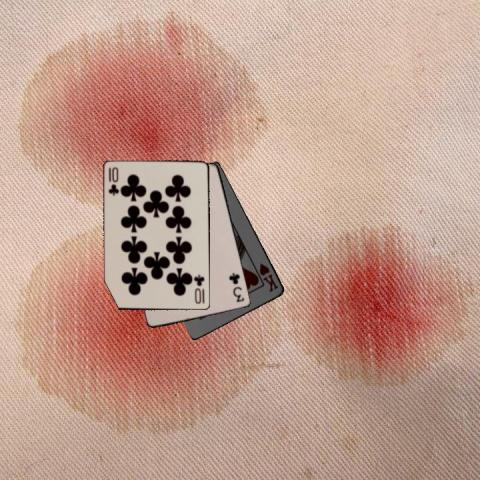10c: (191, 272, 206, 305), (106, 165, 120, 197)
3c: (226, 270, 246, 303)
Kh: (257, 260, 280, 293)
